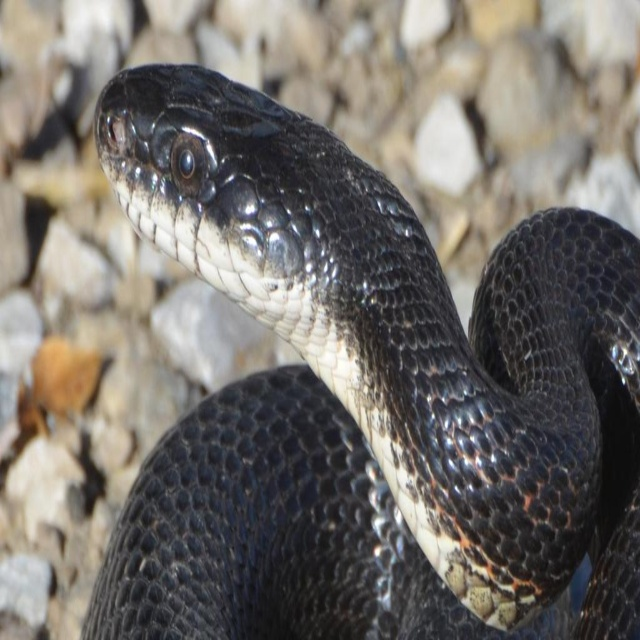Snake: (80, 63, 640, 640)
